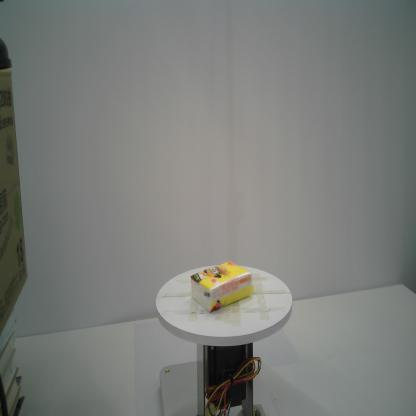Tissue: (190, 261, 254, 313)
